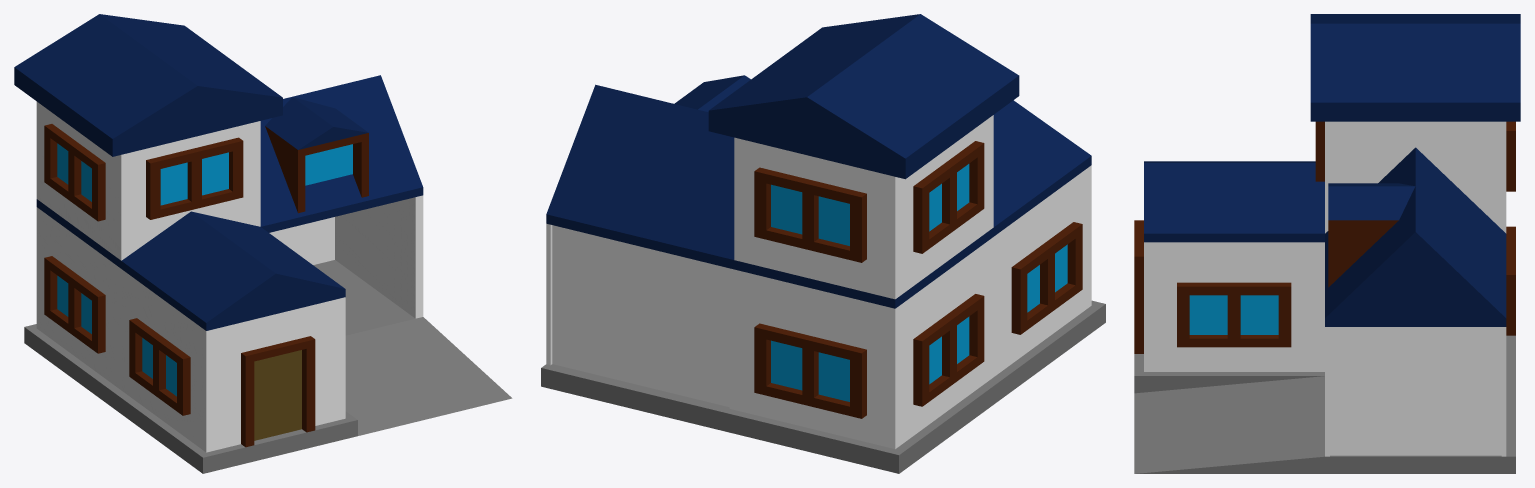
The model's file is Home 2x2.fbx.
3 views of the same model, side by side, from view 1: azimuth 30°, elevation 25°; view 2: azimuth 150°, elevation 25°; view 3: azimuth 270°, elevation 25° (orthographic). The views are drawn at different scales.
Parts seen in each view (by area): view 1: Cube, Cube.001, Cube.002; view 2: Cube, Cube.001, Cube.002; view 3: Cube, Cube.001, Cube.002.
Part boxes in pixels (bbox=[...]): Cube: bbox=[14, 14, 512, 473]; Cube.001: bbox=[44, 124, 243, 415]; Cube.002: bbox=[265, 97, 368, 213]; Cube: bbox=[541, 14, 1105, 473]; Cube.001: bbox=[754, 141, 1082, 418]; Cube.002: bbox=[674, 75, 750, 112]; Cube: bbox=[1134, 14, 1520, 473]; Cube.001: bbox=[1177, 121, 1515, 347]; Cube.002: bbox=[1328, 183, 1415, 287].
Size of the model in its own units: 410 by 381 by 405.
